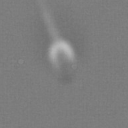normal: (34, 1, 58, 39)
